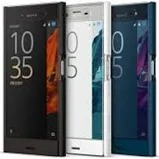sony: (1, 1, 68, 158)
